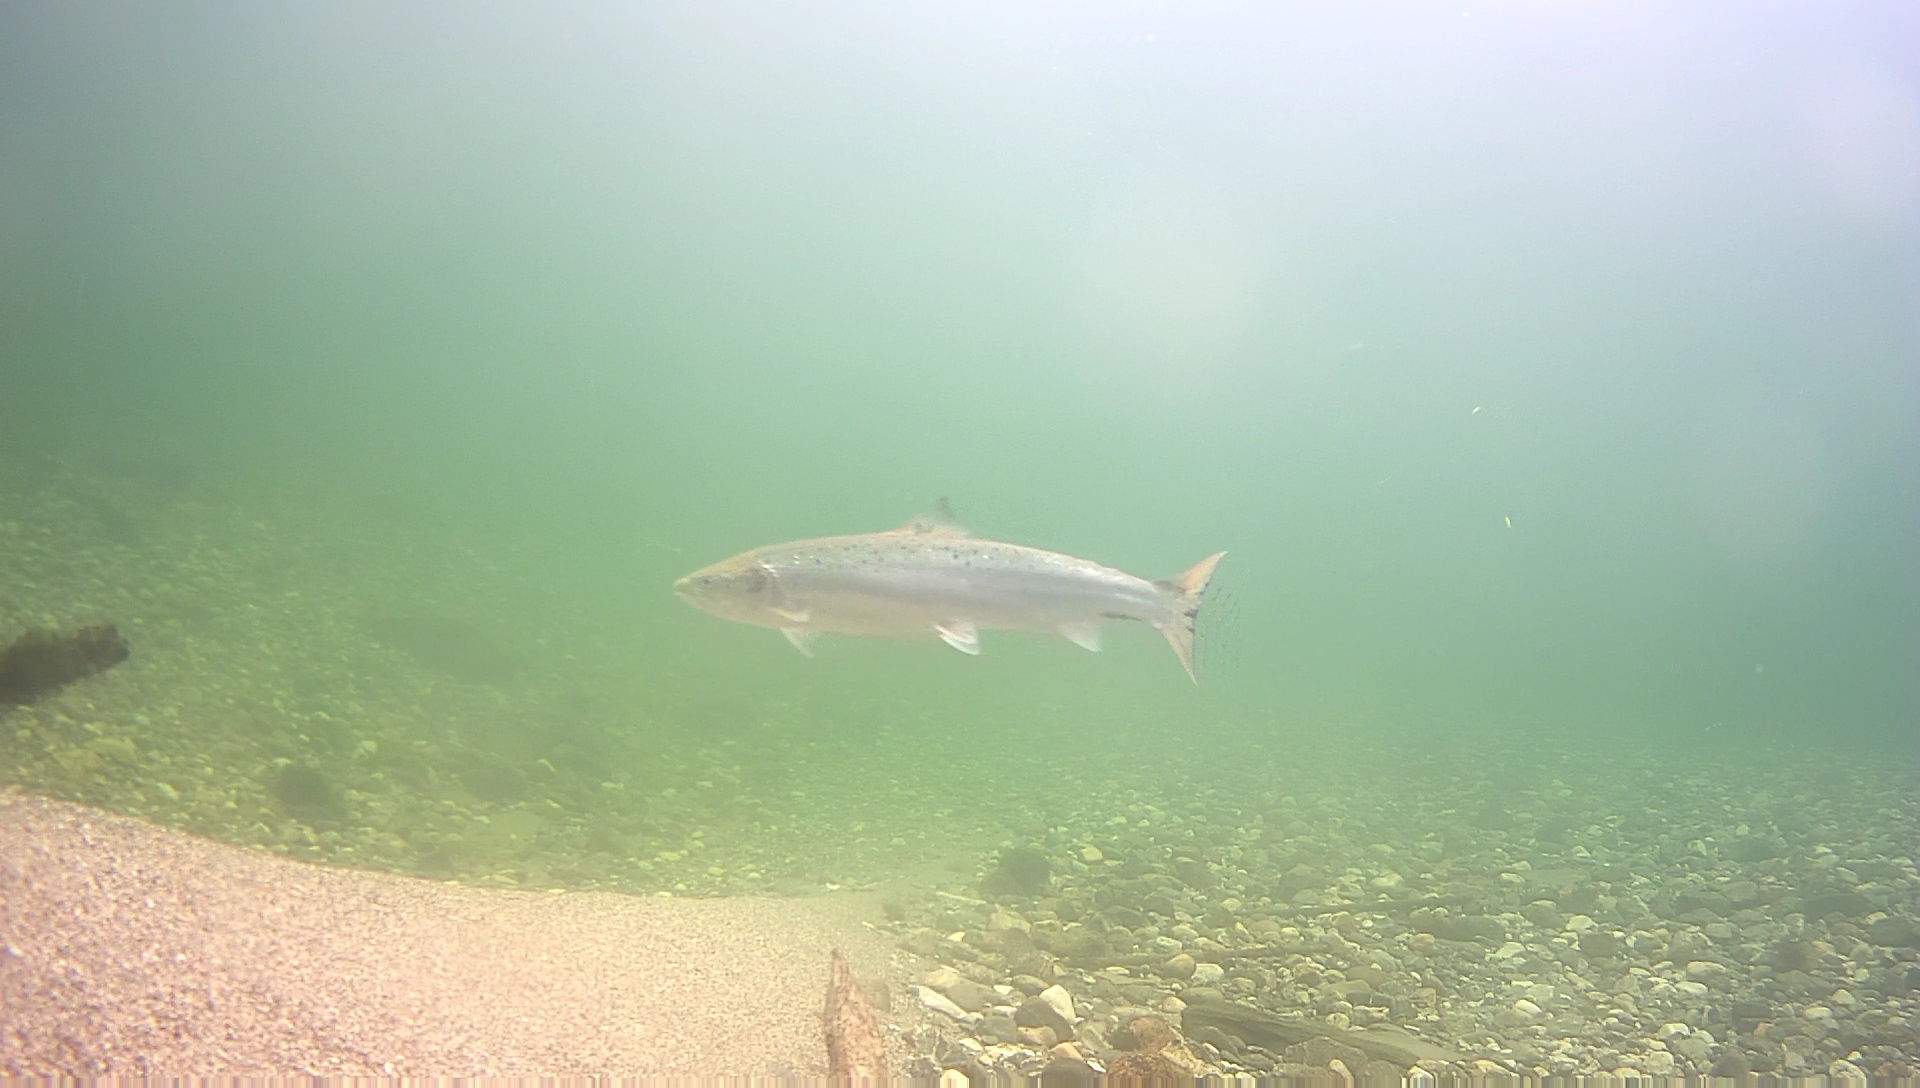salmon: (669, 493, 1232, 692)
